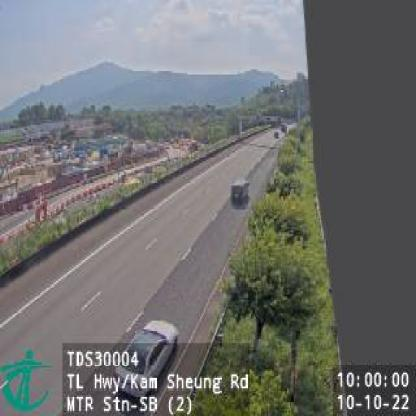Car: (116, 320, 182, 398), (232, 178, 250, 206)
